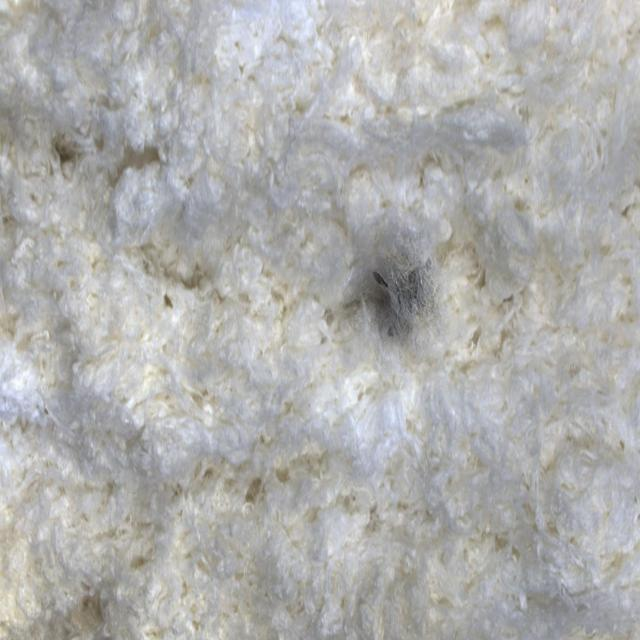dust: (289, 187, 476, 379)
